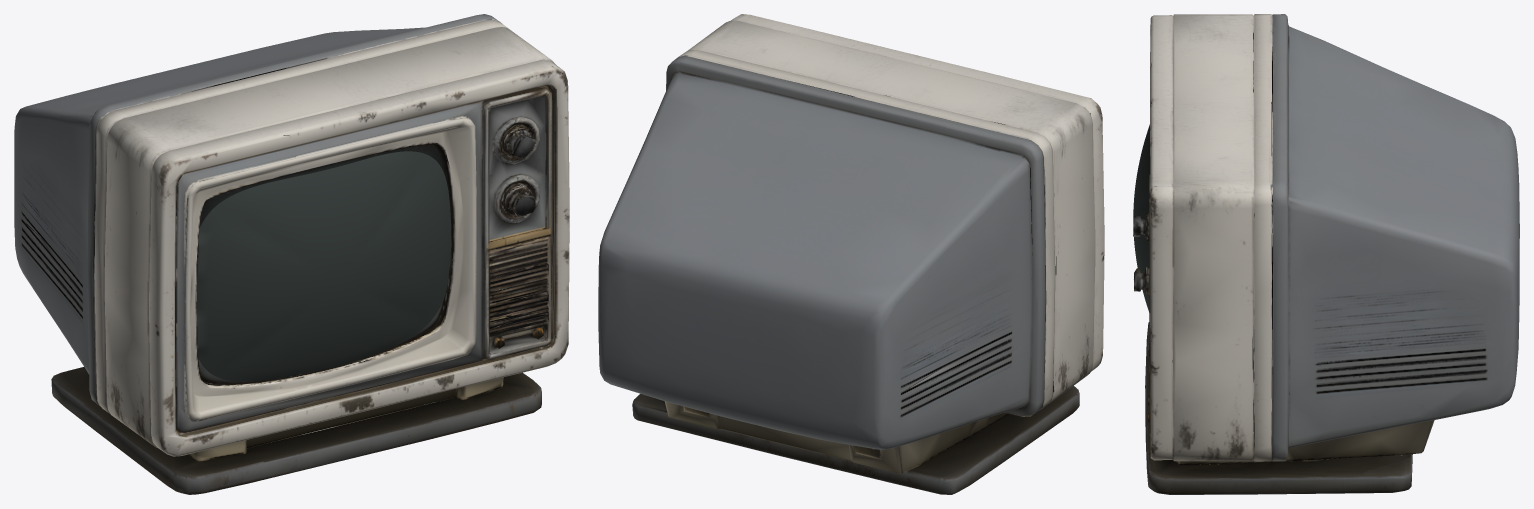
The model's file is tv_crt_a.glb.
3 views of the same model, side by side, from view 1: azimuth 30°, elevation 25°; view 2: azimuth 150°, elevation 25°; view 3: azimuth 270°, elevation 25° (orthographic). The views are drawn at different scales.
Visible parts, largest first — view 1: tv_crt_a, tv_screen; view 2: tv_crt_a; view 3: tv_crt_a, tv_screen.
Boxes of the visible parts, bbox=[...] form: tv_crt_a: bbox=[14, 14, 569, 494]; tv_screen: bbox=[196, 151, 450, 381]; tv_crt_a: bbox=[598, 14, 1104, 494]; tv_crt_a: bbox=[1133, 14, 1519, 494]; tv_screen: bbox=[1133, 124, 1150, 312].
Size of the model in its own units: 0.5 by 0.395 by 0.4407.
2 materials, 1 textured.
